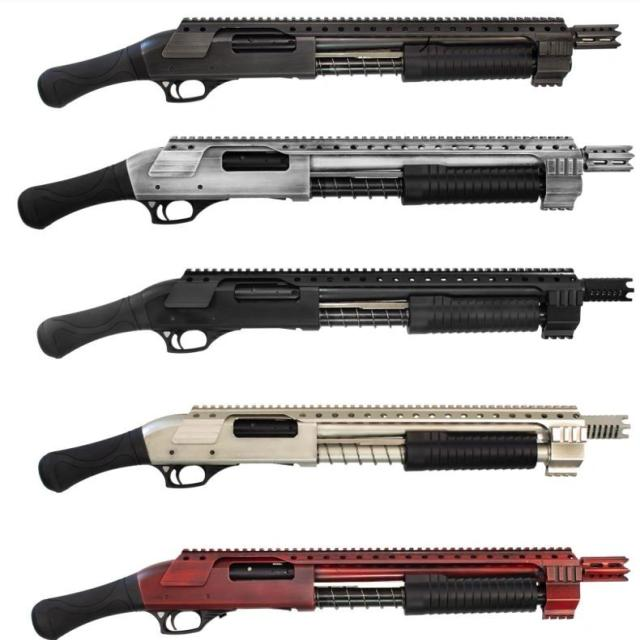ShotGun: (18, 136, 634, 231), (38, 269, 634, 361), (31, 549, 627, 640), (38, 18, 624, 110), (39, 405, 634, 495)
